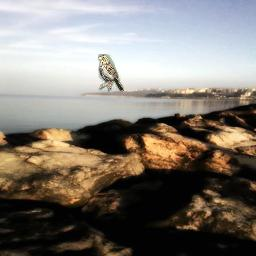Sparrow: (98, 54, 124, 94)
